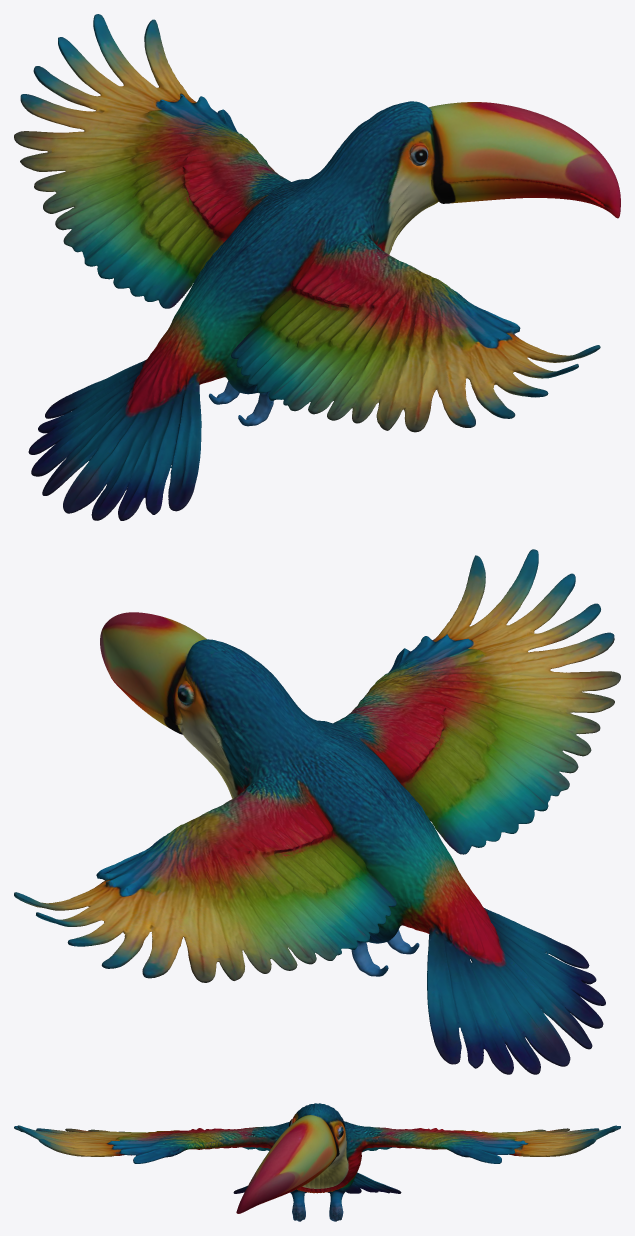
The model's file is Tukan.fbx.
3 renders of one model, top to bottom at view 1: azimuth 30°, elevation 25°; view 2: azimuth 150°, elevation 25°; view 3: azimuth 270°, elevation 25°, orthographic. The views are drawn at different scales.
Visible parts, largest first — view 1: tripo_node_91c94df2; view 2: tripo_node_91c94df2; view 3: tripo_node_91c94df2.
Part boxes in pixels (x1,y1,x2,y2): tripo_node_91c94df2: (14,14,620,520); tripo_node_91c94df2: (14,549,620,1074); tripo_node_91c94df2: (14,1103,620,1221).
Size of the model in its own units: 0.6033 by 0.3552 by 0.999.
Materials: 1 (1 with a texture image).
